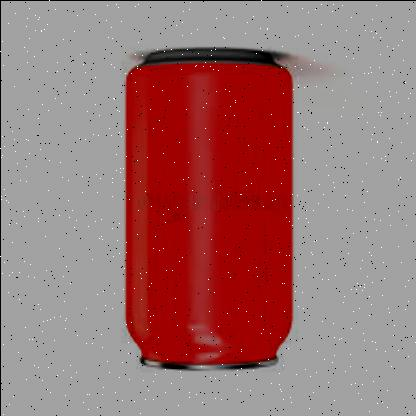Can: (128, 52, 292, 374)
